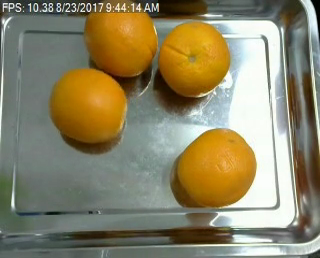Orange: (175, 127, 257, 207), (50, 68, 128, 144), (158, 19, 230, 97), (84, 9, 157, 77)
